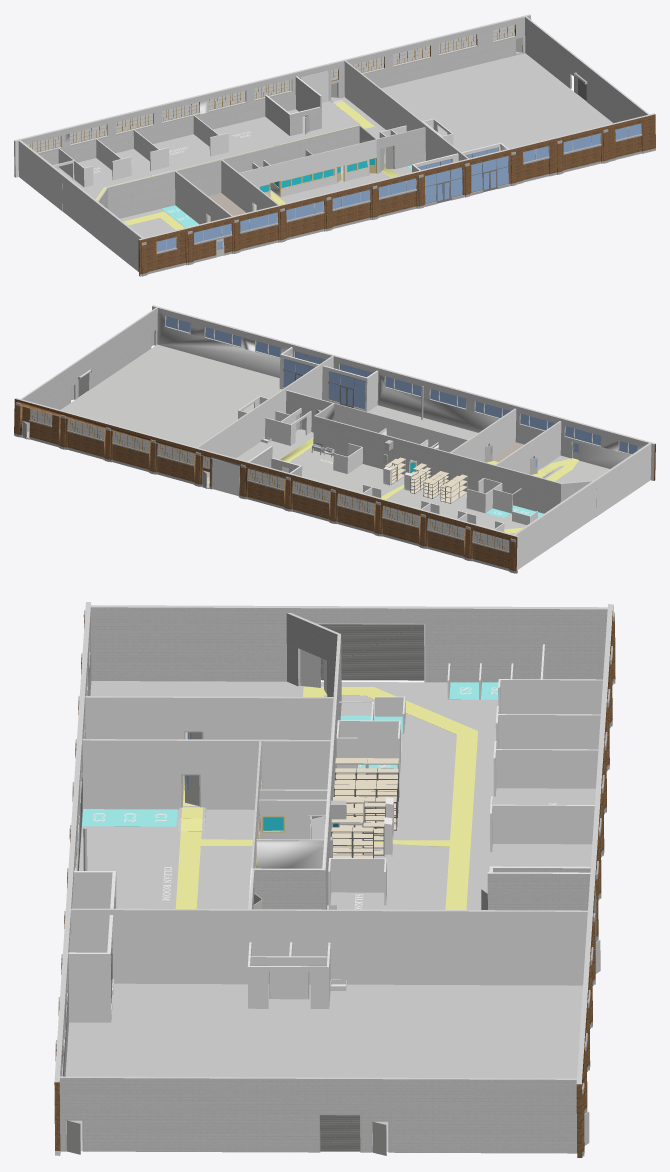
The model's file is the_bodgery.gltf.
3 renders of one model, top to bottom at view 1: azimuth 30°, elevation 25°; view 2: azimuth 150°, elevation 25°; view 3: azimuth 270°, elevation 25°, orthographic. The views are drawn at different scales.
Parts seen in each view (by area): view 1: BODGERY FLOOR PLAN1; view 2: BODGERY FLOOR PLAN1; view 3: BODGERY FLOOR PLAN1.
Part boxes in pixels (bbox=[...]): BODGERY FLOOR PLAN1: bbox=[14, 14, 655, 276]; BODGERY FLOOR PLAN1: bbox=[14, 305, 655, 573]; BODGERY FLOOR PLAN1: bbox=[54, 602, 615, 1157].
Size of the model in its own units: 64.22 by 5.54 by 30.32.
Materials: 24 (6 with a texture image).
